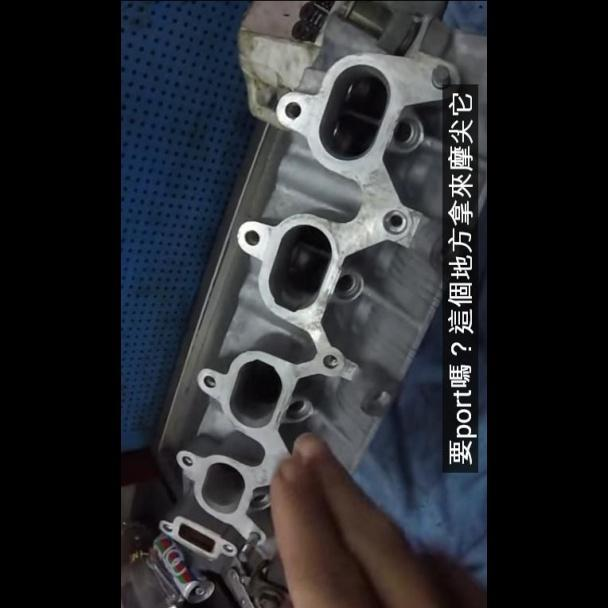hole: (381, 208, 407, 233), (282, 100, 301, 118), (322, 353, 339, 369), (243, 229, 260, 245), (202, 374, 216, 387), (181, 456, 193, 466), (222, 543, 234, 553), (161, 522, 171, 530)
